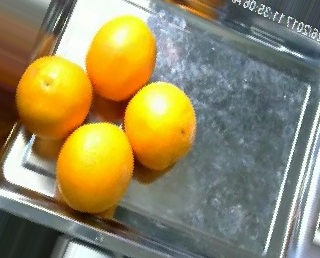Orange: (55, 122, 135, 214), (124, 81, 198, 171), (14, 55, 92, 140), (85, 15, 158, 101)
